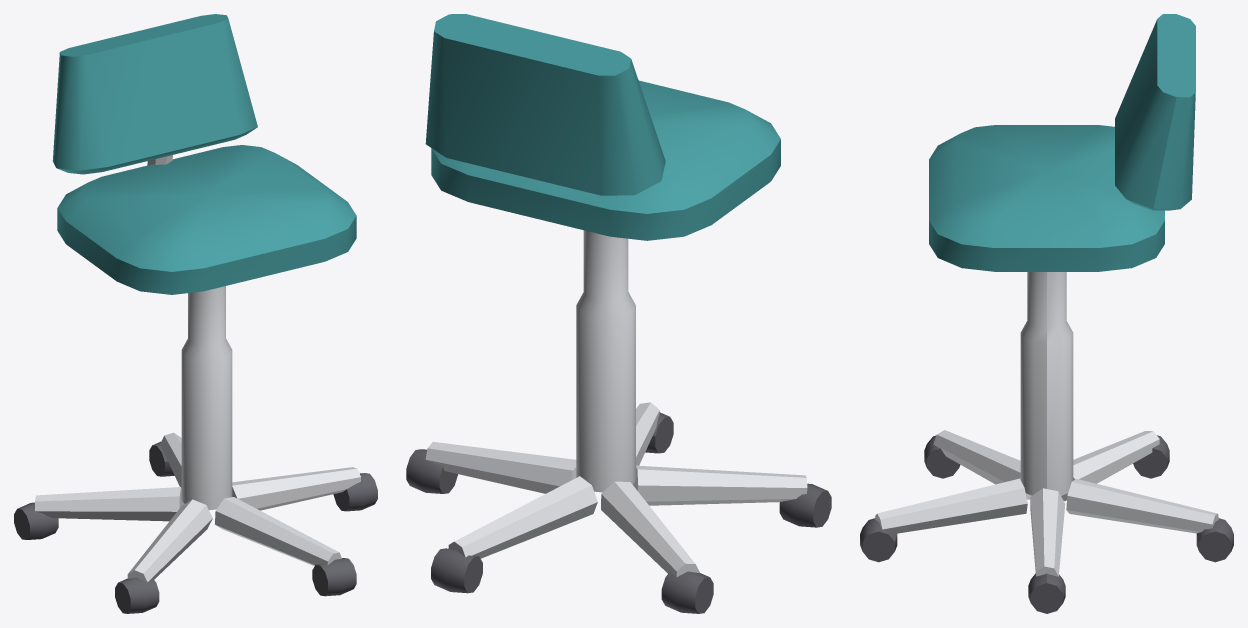
Rendered from dry-cleaners-and-alterations-shop-sewing-stool-9d089224__34977.glb.
The picture shows the model from 3 angles, left to right: view 1: azimuth 30°, elevation 25°; view 2: azimuth 150°, elevation 25°; view 3: azimuth 270°, elevation 25°; orthographic projection. The views are drawn at different scales.
Visible parts, largest first — view 1: sewing-stool; view 2: sewing-stool; view 3: sewing-stool.
Boxes of the visible parts, x1,y1,x2,y2 form: sewing-stool: (14, 14, 377, 613); sewing-stool: (406, 14, 831, 613); sewing-stool: (860, 14, 1233, 613).
Bounding box in the file's own units: 0.5405 × 0.8122 × 0.5706.
